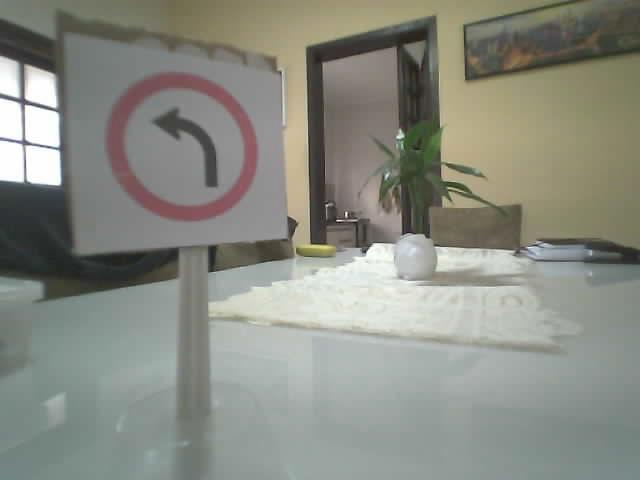R-25a_esquerda: (103, 69, 259, 221)
